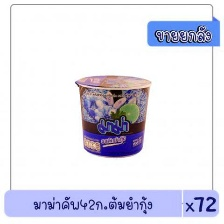paper_cup: (70, 69, 155, 161)
